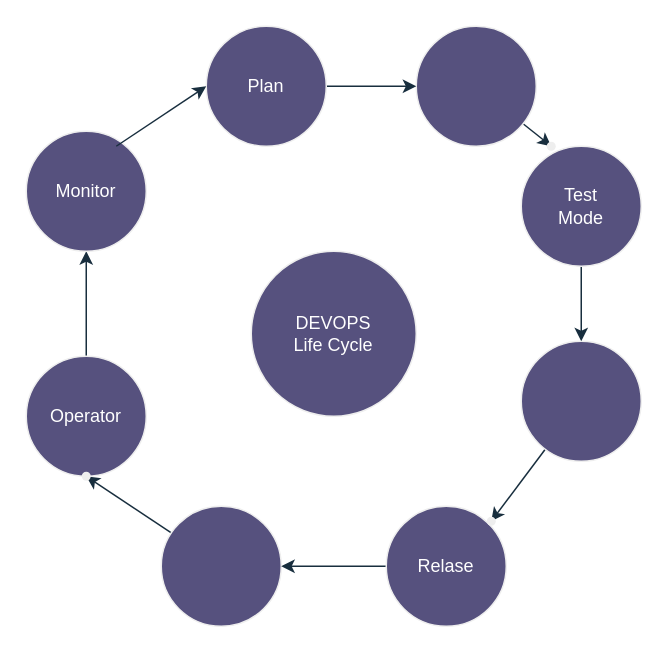
Some shapes in this 668 by 653 pixel diagram are drawn without their labels. The shapes that lost their labels are listed below. From the top down, each one's box as (x1, y1, x2, y2) in pixels, then its label:
(415, 25, 536, 146): Devolp
(520, 340, 641, 461): Build
(160, 505, 281, 626): Deploy
